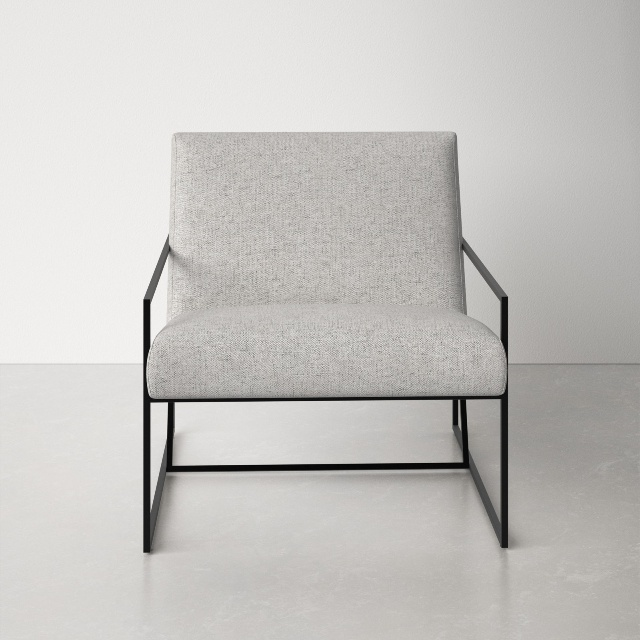obstacle: (144, 132, 508, 552)
